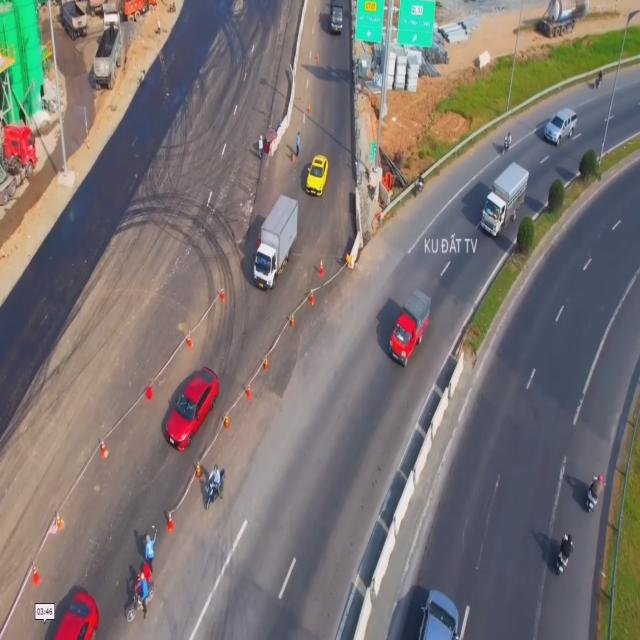car: (163, 365, 218, 453), (52, 586, 99, 640), (420, 588, 461, 640), (543, 104, 577, 146), (306, 154, 327, 198)
motorbike: (124, 574, 156, 624), (202, 462, 227, 511), (556, 533, 573, 581), (586, 474, 604, 512), (502, 132, 510, 154)
truck: (252, 194, 299, 293), (479, 161, 527, 238), (389, 287, 430, 367), (328, 0, 345, 34)
